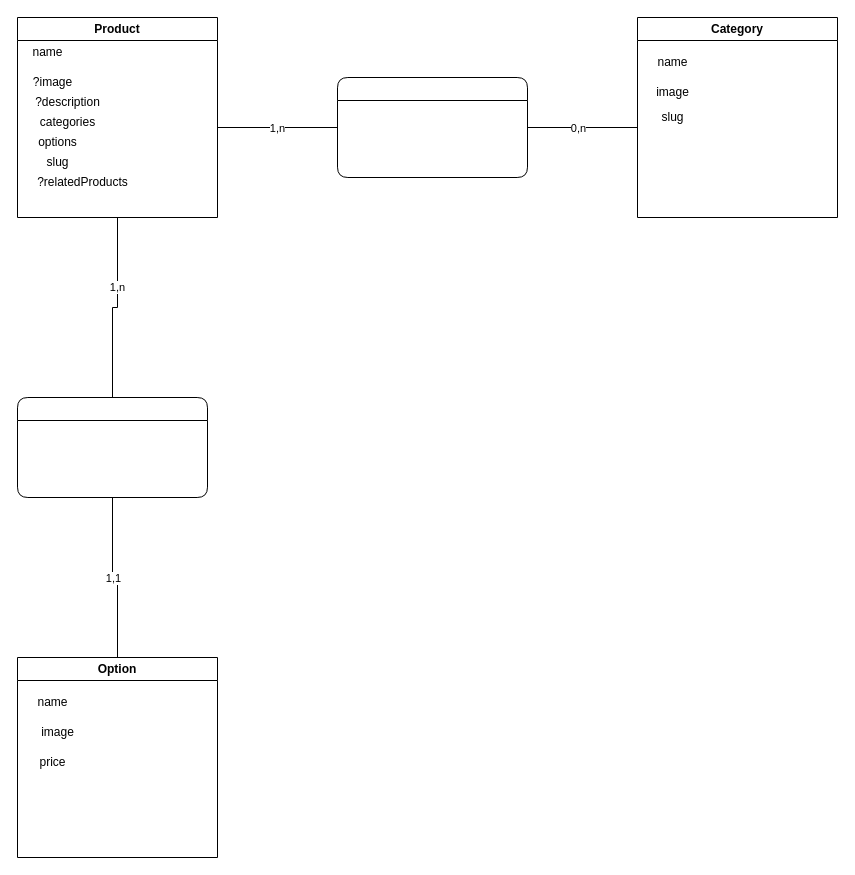
The diagram is 855 pixels wide and 875 high, and some of its shapes have lost their labels. Here are the shapes that lost their labels. From the top down, the centre of each, then its label:
At (x=432, y=127): "related to".
At (x=112, y=447): "has".
